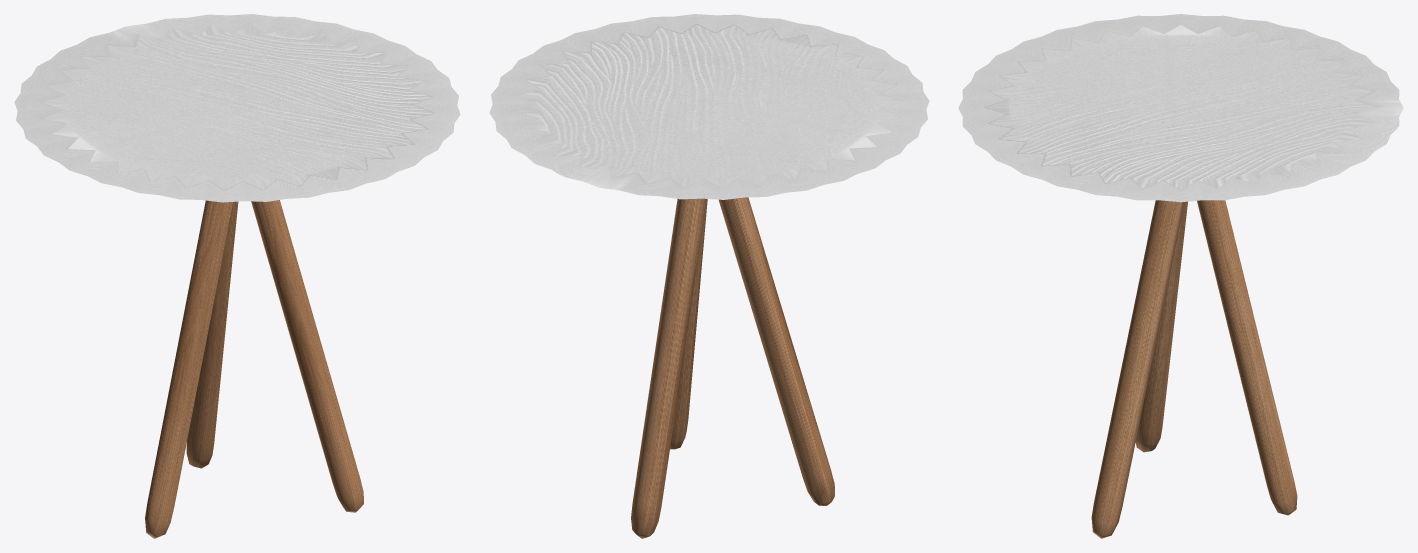
File: stooltable.dae
The picture shows the model from 3 angles, left to right: view 1: azimuth 30°, elevation 25°; view 2: azimuth 150°, elevation 25°; view 3: azimuth 270°, elevation 25°; orthographic projection.
Parts seen in each view (by area): view 1: Cube.002; view 2: Cube.002; view 3: Cube.002.
Part boxes in pixels (bbox=[...]): Cube.002: bbox=[14, 14, 460, 538]; Cube.002: bbox=[489, 14, 929, 538]; Cube.002: bbox=[958, 14, 1403, 538].
Bounding box in the file's own units: 1.41 × 1.41 × 1.4.
